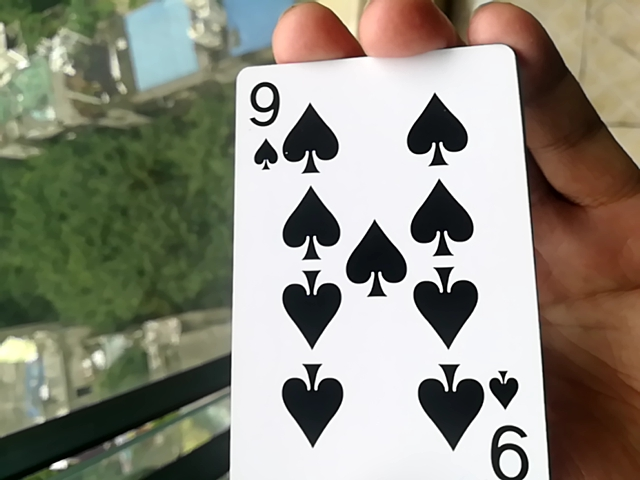ht 9: (211, 43, 543, 476)
